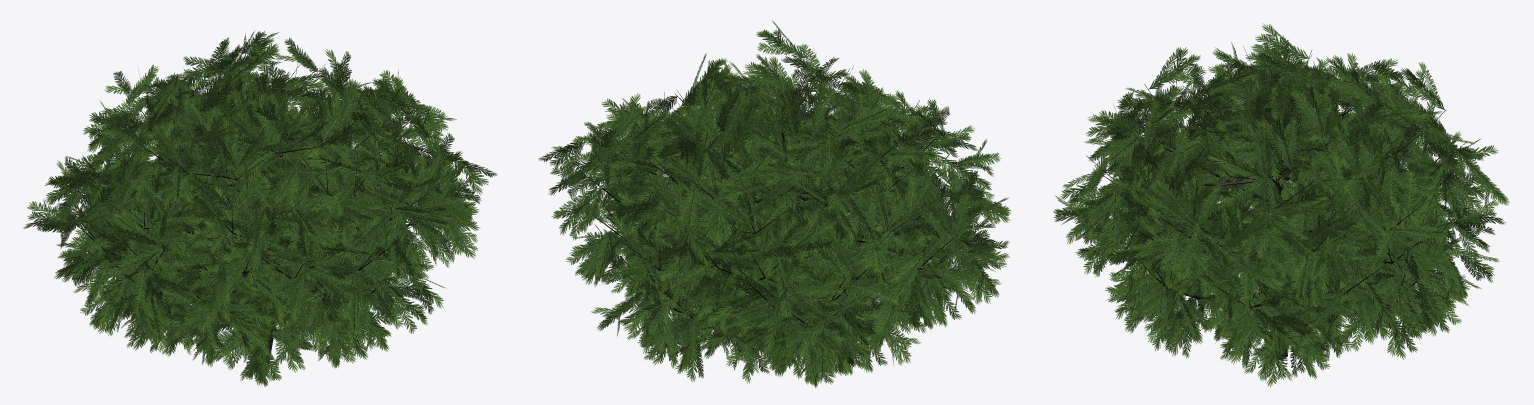
File: yew_shrub.gltf
The picture shows the model from 3 angles, left to right: view 1: azimuth 30°, elevation 25°; view 2: azimuth 150°, elevation 25°; view 3: azimuth 270°, elevation 25°; orthographic projection.
Visible parts, largest first — view 1: branch_tips_Baked, MultiMeshInstance3D233, MultiMeshInstance3D427, MultiMeshInstance3D201, MultiMeshInstance3D729, MultiMeshInstance3D774, MultiMeshInstance3D173, MultiMeshInstance3D366, MultiMeshInstance3D776, MultiMeshInstance3D177, MultiMeshInstance3D204, MultiMeshInstance3D296 (+157 smaller); view 2: branch_tips_Baked, MultiMeshInstance3D931, MultiMeshInstance3D134, MultiMeshInstance3D105, MultiMeshInstance3D214, MultiMeshInstance3D1021, MultiMeshInstance3D719, MultiMeshInstance3D684, MultiMeshInstance3D162, MultiMeshInstance3D529, MultiMeshInstance3D739, MultiMeshInstance3D543 (+144 smaller); view 3: branch_tips_Baked, MultiMeshInstance3D694, MultiMeshInstance3D317, MultiMeshInstance3D772, MultiMeshInstance3D311, MultiMeshInstance3D41, MultiMeshInstance3D381, MultiMeshInstance3D654, MultiMeshInstance3D118, MultiMeshInstance3D468, MultiMeshInstance3D170, MultiMeshInstance3D187 (+154 smaller).
Boxes of the visible parts, x1=… form: branch_tips_Baked: x1=66, y1=55, x2=454, y2=303; MultiMeshInstance3D233: x1=294, y1=208, x2=338, y2=259; MultiMeshInstance3D427: x1=254, y1=91, x2=286, y2=151; MultiMeshInstance3D201: x1=394, y1=198, x2=453, y2=234; MultiMeshInstance3D729: x1=311, y1=143, x2=366, y2=178; MultiMeshInstance3D774: x1=312, y1=231, x2=371, y2=267; MultiMeshInstance3D173: x1=80, y1=281, x2=130, y2=329; MultiMeshInstance3D366: x1=183, y1=56, x2=235, y2=89; MultiMeshInstance3D776: x1=232, y1=163, x2=271, y2=216; MultiMeshInstance3D177: x1=384, y1=283, x2=431, y2=333; MultiMeshInstance3D204: x1=23, y1=199, x2=73, y2=230; MultiMeshInstance3D296: x1=272, y1=322, x2=305, y2=372; branch_tips_Baked: x1=578, y1=51, x2=980, y2=332; MultiMeshInstance3D931: x1=755, y1=216, x2=808, y2=259; MultiMeshInstance3D134: x1=908, y1=275, x2=946, y2=329; MultiMeshInstance3D105: x1=551, y1=185, x2=597, y2=240; MultiMeshInstance3D214: x1=920, y1=255, x2=980, y2=290; MultiMeshInstance3D1021: x1=692, y1=78, x2=727, y2=135; MultiMeshInstance3D719: x1=584, y1=122, x2=633, y2=173; MultiMeshInstance3D684: x1=841, y1=270, x2=900, y2=304; MultiMeshInstance3D162: x1=642, y1=297, x2=674, y2=355; MultiMeshInstance3D529: x1=681, y1=270, x2=720, y2=325; MultiMeshInstance3D739: x1=857, y1=176, x2=893, y2=232; MultiMeshInstance3D543: x1=614, y1=299, x2=671, y2=336; branch_tips_Baked: x1=1086, y1=46, x2=1469, y2=314; MultiMeshInstance3D694: x1=1419, y1=282, x2=1461, y2=336; MultiMeshInstance3D317: x1=1259, y1=113, x2=1297, y2=169; MultiMeshInstance3D772: x1=1148, y1=47, x2=1206, y2=89; MultiMeshInstance3D311: x1=1292, y1=82, x2=1329, y2=138; MultiMeshInstance3D41: x1=1392, y1=62, x2=1444, y2=110; MultiMeshInstance3D381: x1=1175, y1=222, x2=1208, y2=279; MultiMeshInstance3D654: x1=1107, y1=273, x2=1156, y2=325; MultiMeshInstance3D118: x1=1201, y1=59, x2=1257, y2=95; MultiMeshInstance3D468: x1=1257, y1=35, x2=1308, y2=81; MultiMeshInstance3D170: x1=1309, y1=236, x2=1337, y2=294; MultiMeshInstance3D187: x1=1449, y1=219, x2=1495, y2=262.
Size of the model in its own units: 1.6 by 1.12 by 1.49.
3 materials, 3 textured.
